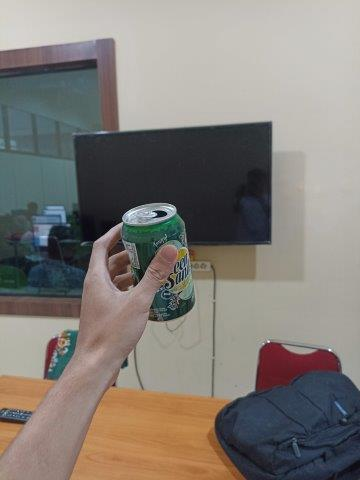kaleng: (121, 202, 195, 322)
